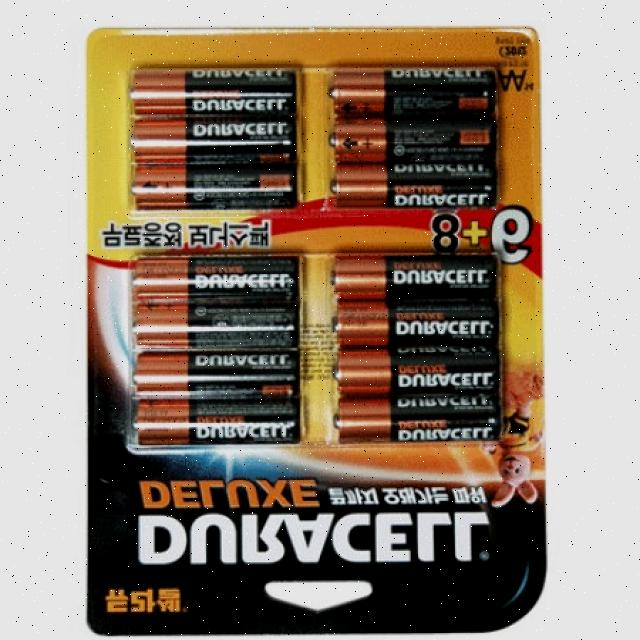battery: (325, 334, 509, 396), (323, 391, 505, 450), (325, 60, 497, 117), (327, 157, 496, 215), (133, 394, 308, 450), (123, 251, 303, 305), (117, 168, 297, 220), (118, 118, 300, 166), (124, 65, 302, 114), (127, 349, 300, 399), (327, 111, 494, 159), (325, 292, 505, 336), (126, 304, 306, 345), (324, 253, 504, 292)
